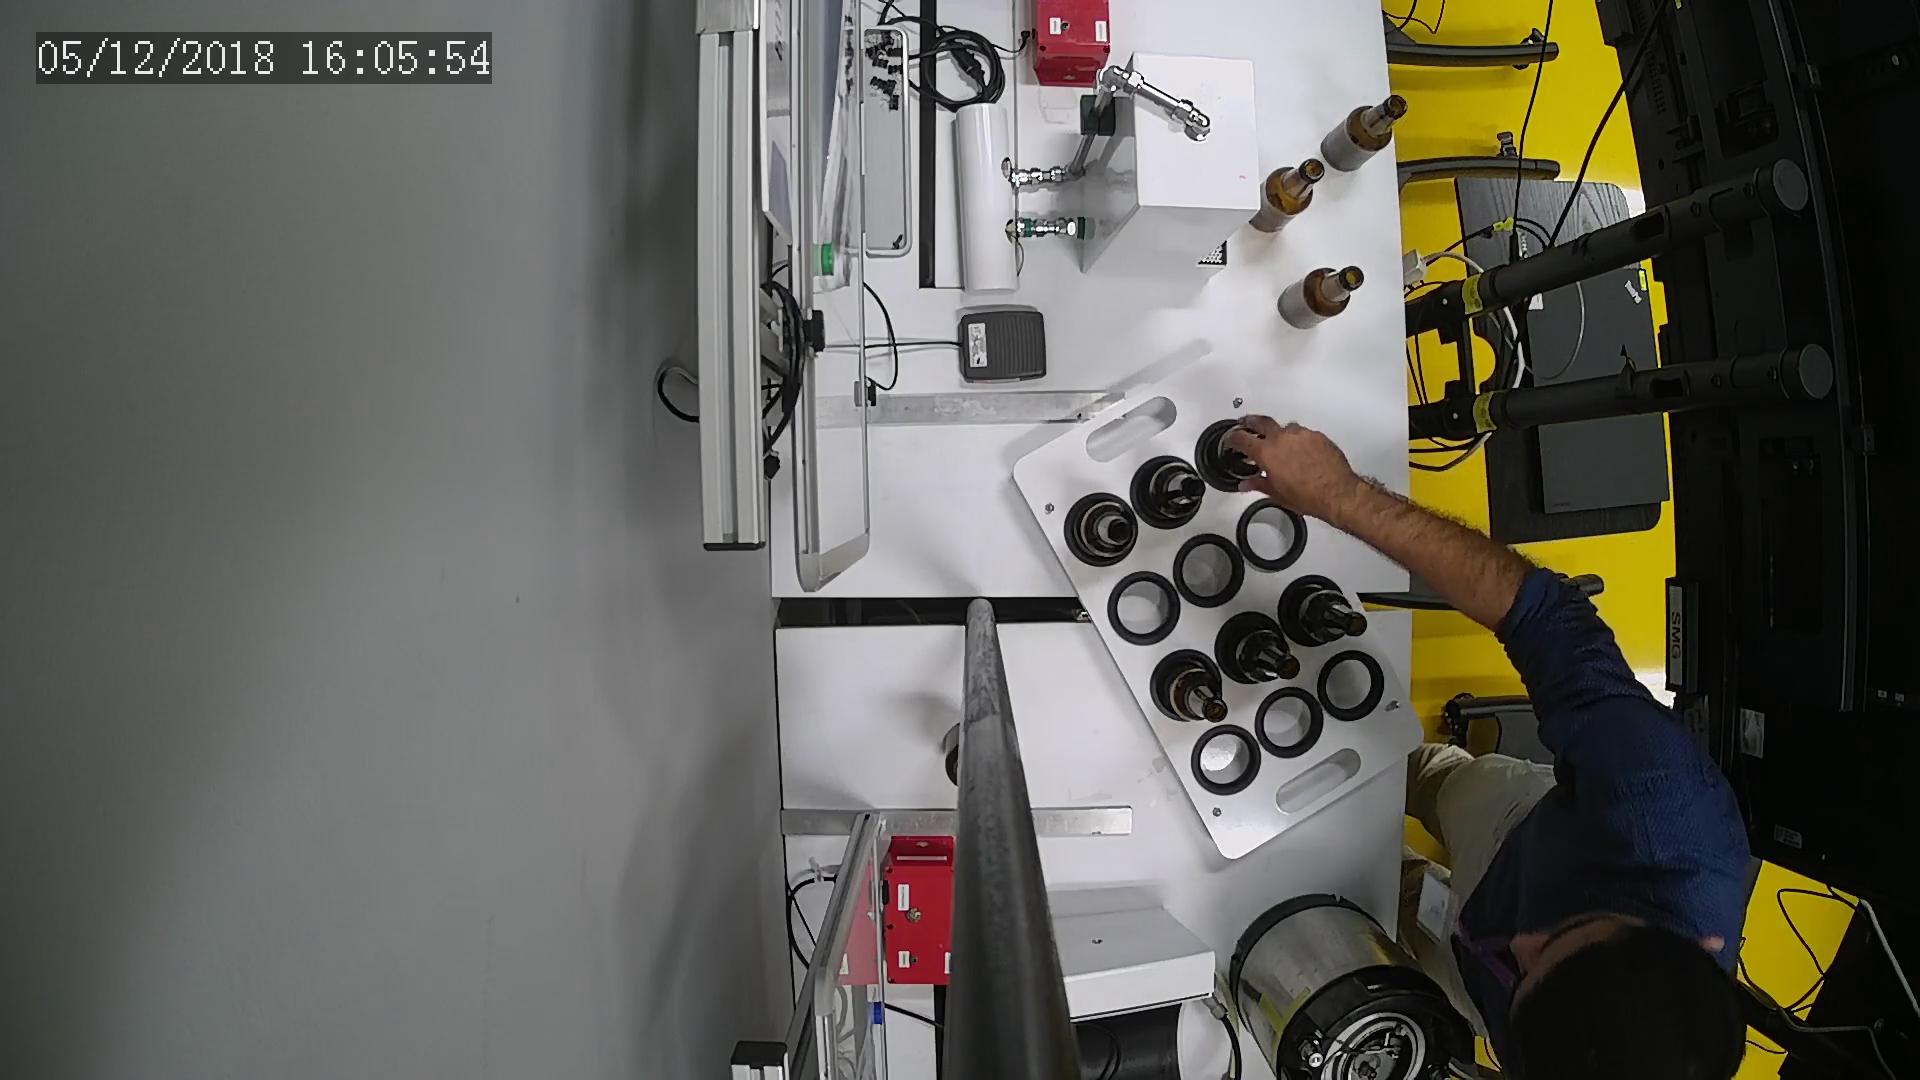filled_bottle: (1283, 576, 1371, 653), (1218, 611, 1303, 690), (1129, 458, 1211, 530), (1153, 651, 1229, 724), (1203, 411, 1262, 493), (1069, 497, 1141, 564)
trolley: (1010, 353, 1428, 865)
unfilled_bottle: (1320, 98, 1408, 174), (1251, 156, 1328, 236), (1278, 265, 1362, 330)
